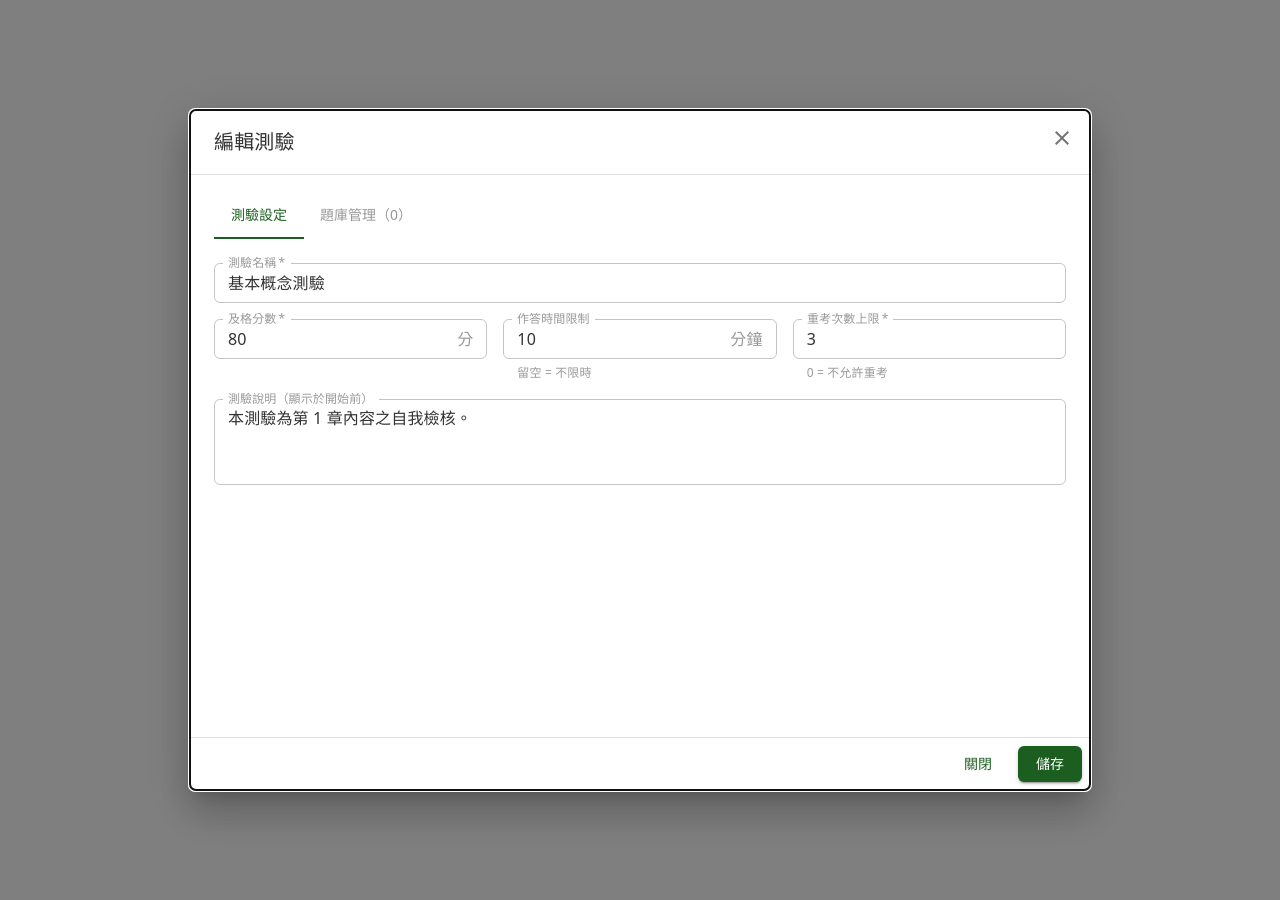
Test case: 測驗編輯視窗 › 題庫為空時顯示引導文字
Step 1. Click the tab "題庫管理（0）" → (366, 215), box [304,191,428,239]
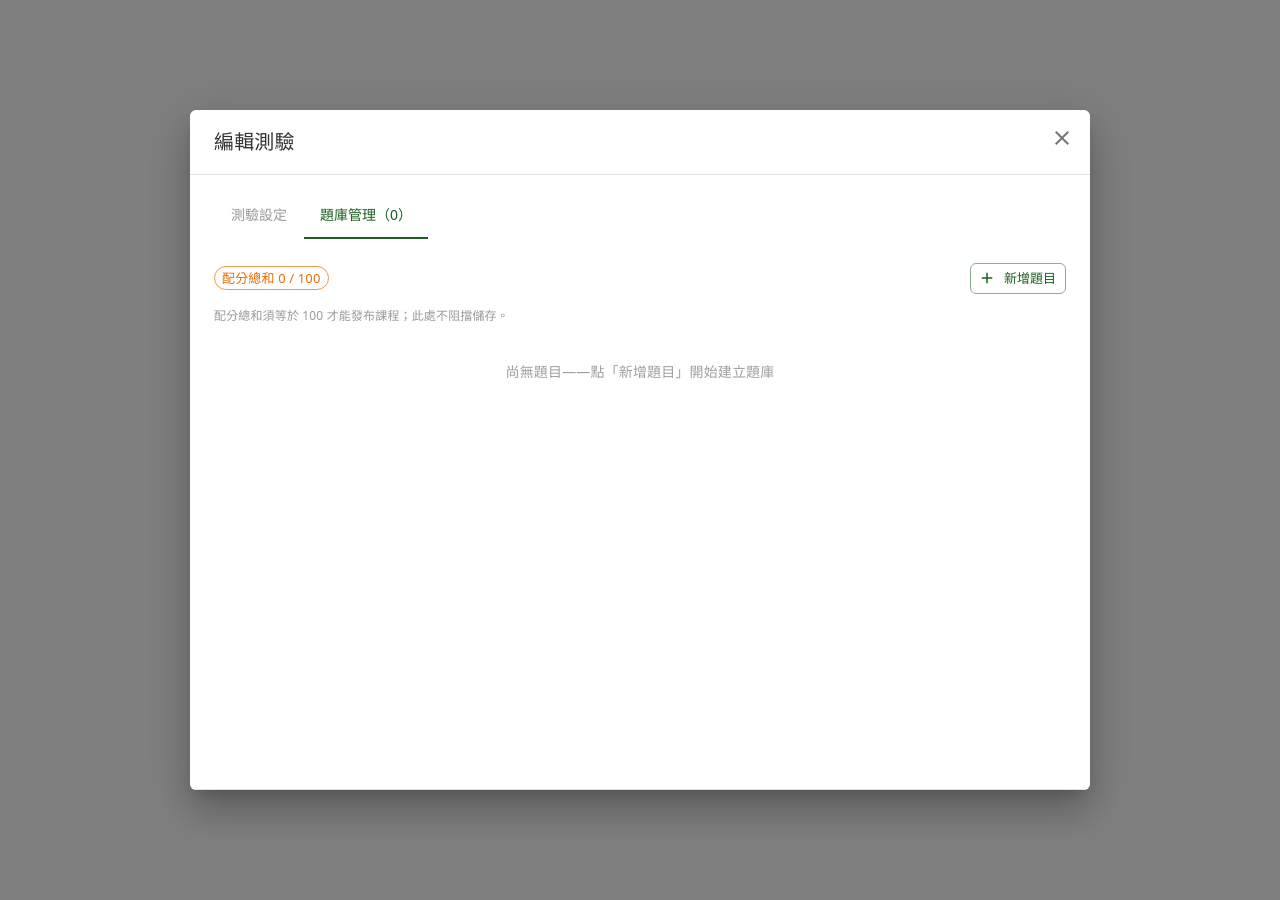
Check: the text "尚無題目——點「新增題目」開始建立題庫" is shown, box [506,362,774,381]
